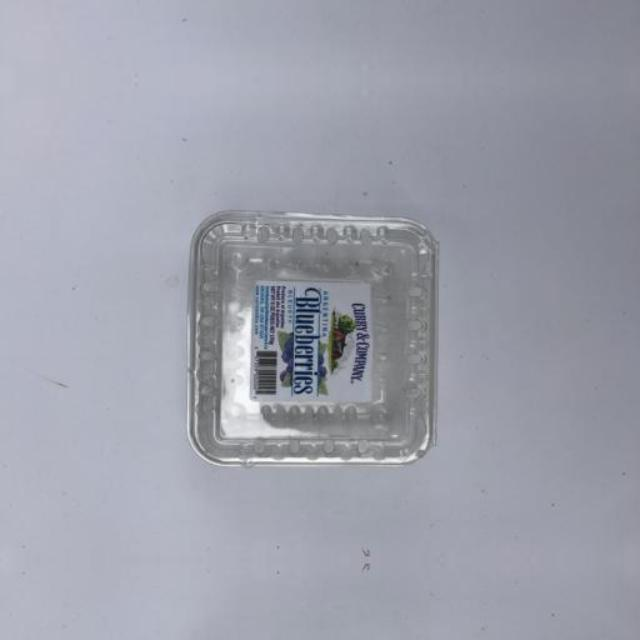Plastic: (151, 180, 465, 490), (151, 630, 465, 640)
